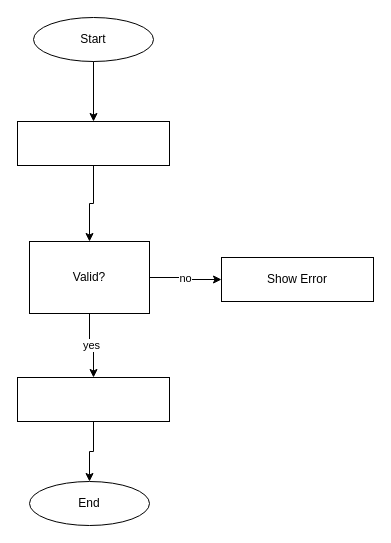
The diagram is 391 pixels wide and 543 high, and some of its shapes have lost their labels. The shapes that lost their labels are listed below. From the top down, each one's centre as x and y in pixels, then its label:
the point at 93,143: Read the Input
the point at 93,399: Process Data
